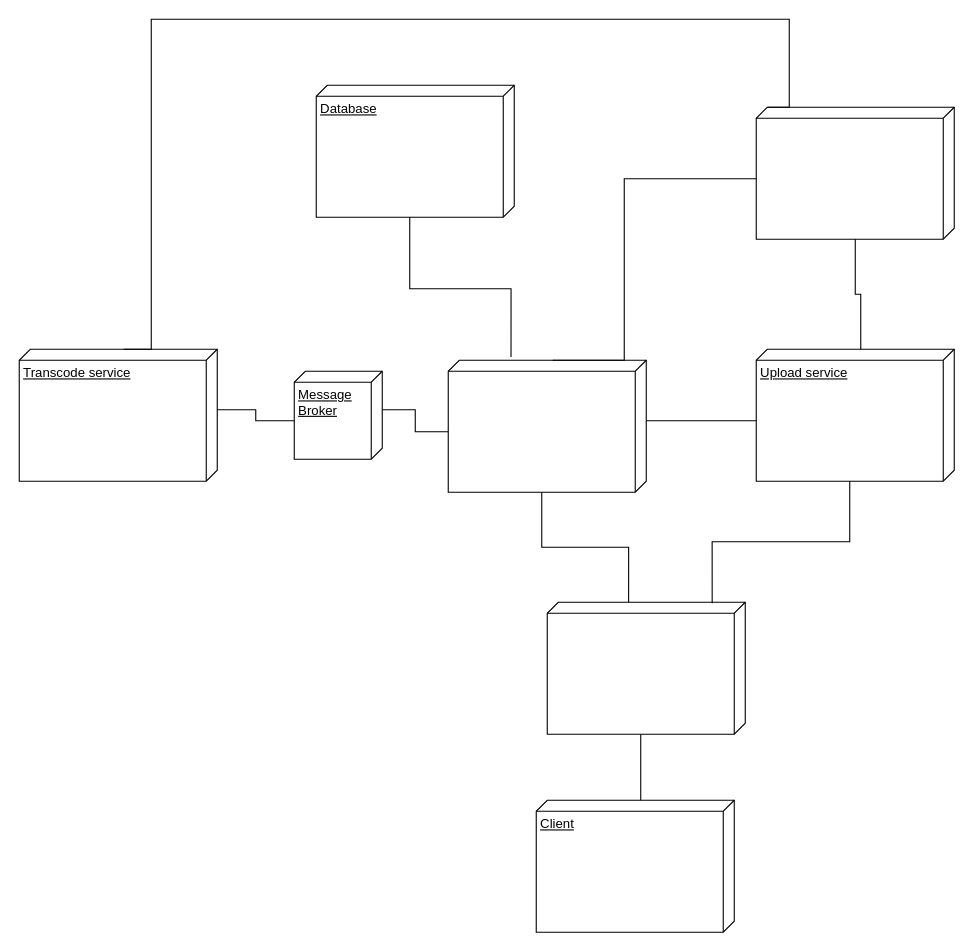
Image size: 974x952. Some labels were removed from this diagram. Here are the shapes that lost their labels. From the top down, the centre of each, then its label:
At [854,172]: "Object storage".
At [546,425]: "Audio service".
At [645,667]: "Proxy".
